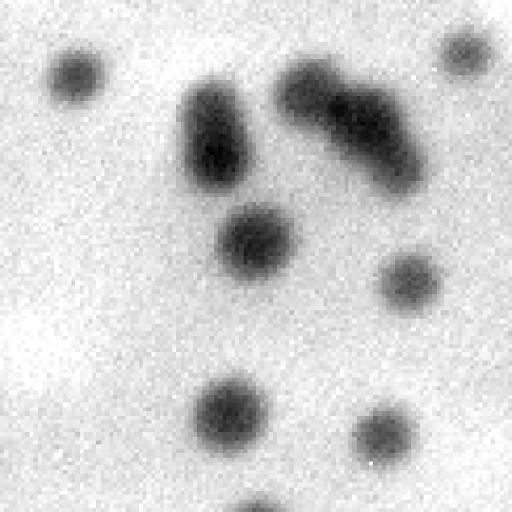Nanoparticles: (183, 370, 278, 462), (213, 202, 303, 288), (322, 82, 408, 164), (272, 50, 355, 132), (374, 246, 449, 320), (176, 71, 252, 143), (349, 401, 423, 474), (184, 126, 258, 194), (40, 44, 114, 109), (362, 132, 432, 199), (440, 29, 495, 84), (226, 496, 289, 512)
